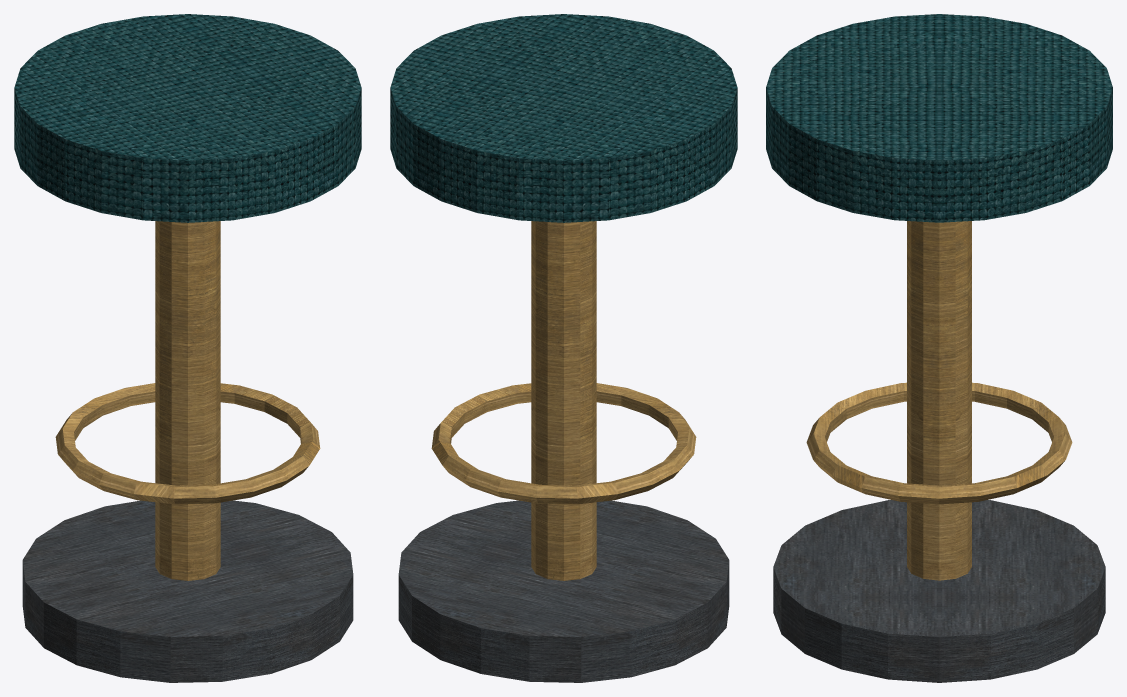
The model's file is commons-bar-stool.glb.
The picture shows the model from 3 angles, left to right: view 1: azimuth 30°, elevation 25°; view 2: azimuth 150°, elevation 25°; view 3: azimuth 270°, elevation 25°; orthographic projection.
Visible parts, largest first — view 1: FURN_StoolSeat.014, FURN_StoolBase.014, FURN_StoolStem.014, FURN_StoolFootrest.014; view 2: FURN_StoolSeat.014, FURN_StoolBase.014, FURN_StoolStem.014, FURN_StoolFootrest.014; view 3: FURN_StoolSeat.014, FURN_StoolBase.014, FURN_StoolStem.014, FURN_StoolFootrest.014.
Part boxes in pixels (x1,y1,x2,y2): FURN_StoolSeat.014: (14,14,361,222); FURN_StoolBase.014: (22,500,353,682); FURN_StoolStem.014: (155,221,220,580); FURN_StoolFootrest.014: (55,383,320,504); FURN_StoolSeat.014: (390,14,737,222); FURN_StoolBase.014: (398,500,729,682); FURN_StoolStem.014: (531,221,596,580); FURN_StoolFootrest.014: (431,383,696,504); FURN_StoolSeat.014: (766,14,1112,222); FURN_StoolBase.014: (773,500,1105,682); FURN_StoolStem.014: (907,221,971,580); FURN_StoolFootrest.014: (806,382,1072,504).
Size of the model in its own units: 0.48 by 0.8025 by 0.48.
Materials: 3 (3 with a texture image).
